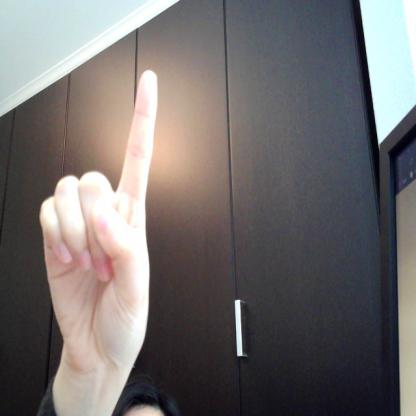one: (40, 67, 173, 374)
